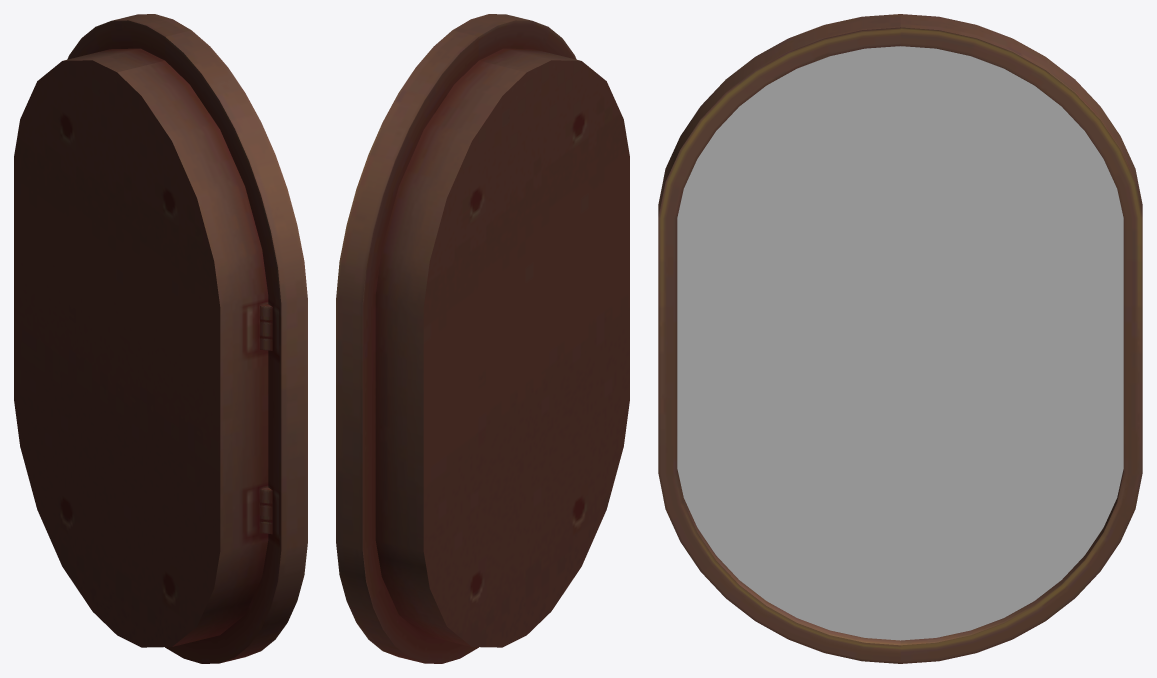
The model's file is 全身镜.glb.
3 renders of one model, left to right at view 1: azimuth 30°, elevation 25°; view 2: azimuth 150°, elevation 25°; view 3: azimuth 270°, elevation 25°, orthographic. The views are drawn at different scales.
Visible parts, largest first — view 1: TinytLiving_MiracleMirror_26; view 2: TinytLiving_MiracleMirror_26; view 3: s4studio_mesh_2.003_25, TinytLiving_MiracleMirror_26.
Part boxes in pixels (bbox=[...]): TinytLiving_MiracleMirror_26: bbox=[14, 14, 307, 663]; TinytLiving_MiracleMirror_26: bbox=[336, 14, 629, 663]; s4studio_mesh_2.003_25: bbox=[677, 46, 1123, 640]; TinytLiving_MiracleMirror_26: bbox=[658, 14, 1142, 663].
Bounding box in the file's own units: 0.096 × 0.7522 × 0.5188.
Materials: 2 (1 with a texture image).
